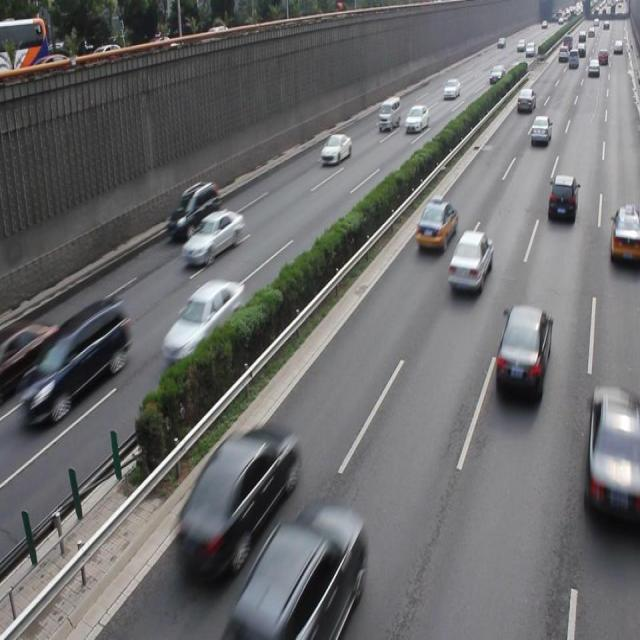car: (228, 496, 365, 640), (176, 424, 298, 575), (21, 294, 131, 422), (586, 383, 640, 521), (162, 278, 245, 362), (494, 301, 551, 402), (1, 318, 61, 397), (182, 208, 244, 266), (167, 178, 220, 240), (447, 228, 492, 296), (414, 197, 456, 252), (607, 206, 640, 263), (545, 173, 576, 225), (320, 133, 350, 166)
